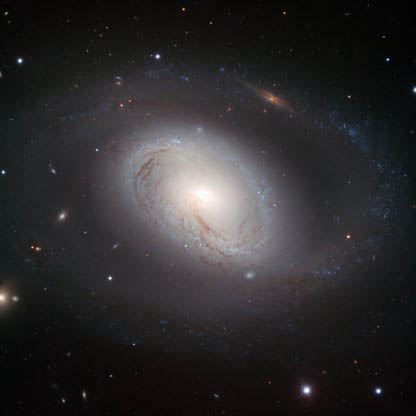Messier 96: (12, 68, 409, 339)
